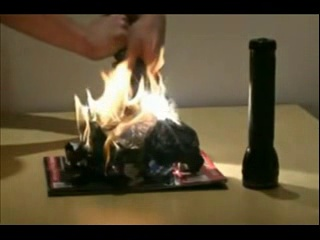fire: (99, 43, 164, 145), (74, 87, 117, 175)
smoke: (148, 75, 183, 123)
